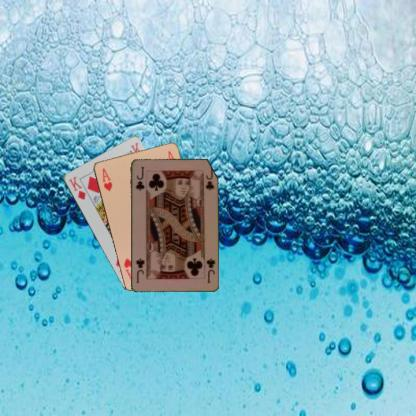Ah: (100, 166, 113, 192)
Jc: (133, 164, 145, 192), (204, 256, 216, 284)
Kd: (66, 174, 86, 201)
